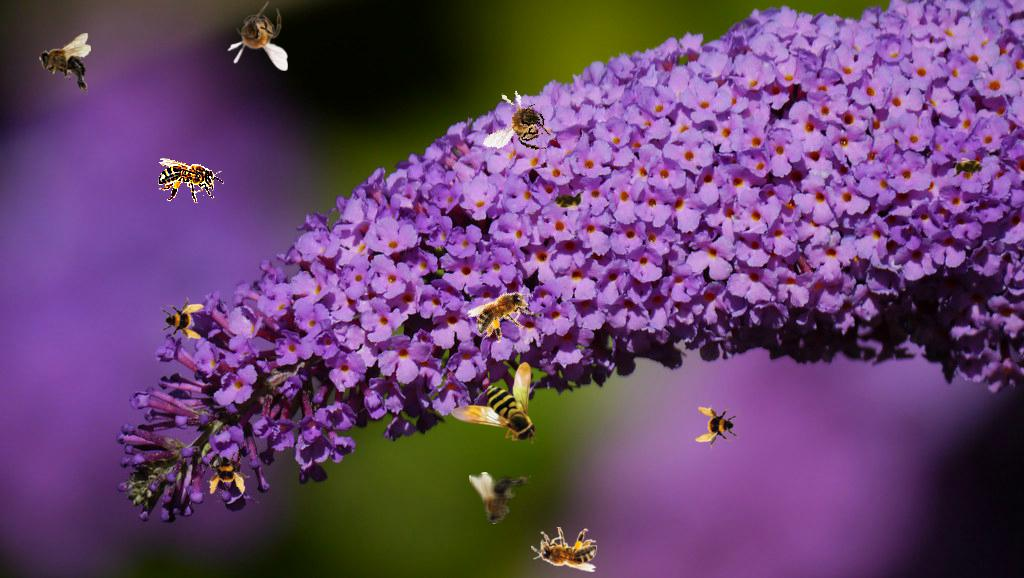Bee: (450, 362, 538, 444), (482, 85, 565, 161), (465, 274, 545, 351), (227, 1, 288, 71), (38, 33, 91, 95), (469, 472, 531, 525), (531, 527, 597, 572), (158, 158, 224, 203), (203, 448, 253, 498), (695, 405, 739, 449), (160, 297, 204, 341), (949, 157, 989, 179), (548, 189, 588, 211)
